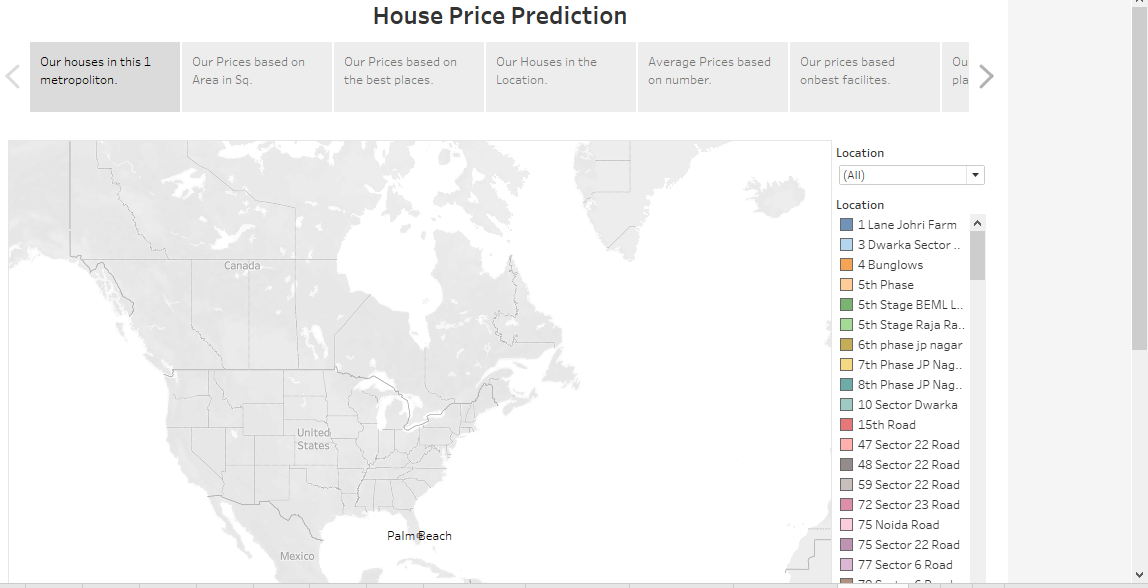

Layout of this report page (visuals, bound fields, positions):
{"tool":"tableau","page":{"name":"Dashboard 1","canvas":[1169,827],"ordinal":0},"visuals":[{"type":"worksheet","title":"Sheet 1","mark":"Multipolygon","box":[8,8,1153,811]}]}

Visuals, with their boxes on the page's 1169x827 design canvas (x1, y1, x2, y2). These are canvas units, not pixel positions in the 1148x588 screenshot, which may show the page scaled, cropped or inside an application window:
"Sheet 1" worksheet (Multipolygon marks): crop(8, 8, 1161, 819)
